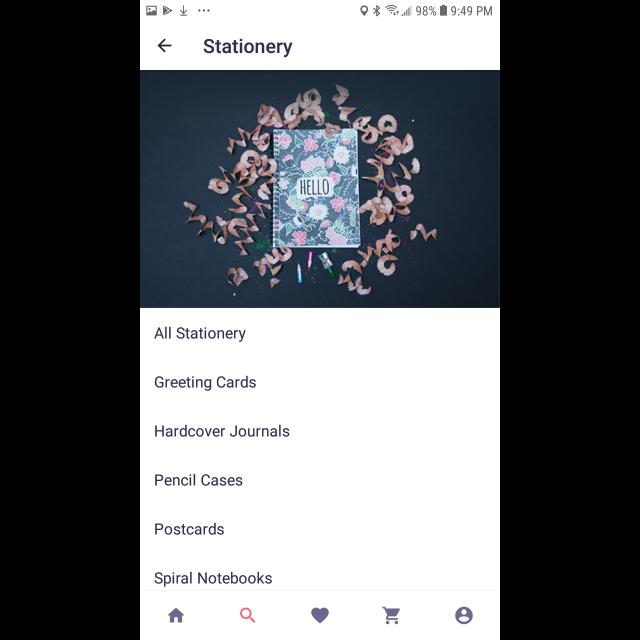icon: (383, 607, 401, 625), (455, 607, 473, 625), (311, 607, 329, 623), (158, 38, 172, 54), (169, 608, 185, 622), (240, 608, 256, 622)
image: (140, 71, 500, 309)
text: (154, 424, 290, 438), (156, 571, 272, 587), (204, 38, 292, 58), (155, 376, 257, 392), (154, 326, 246, 342), (155, 474, 243, 486), (156, 522, 224, 536)
uppertaskbar: (140, 1, 500, 18)
